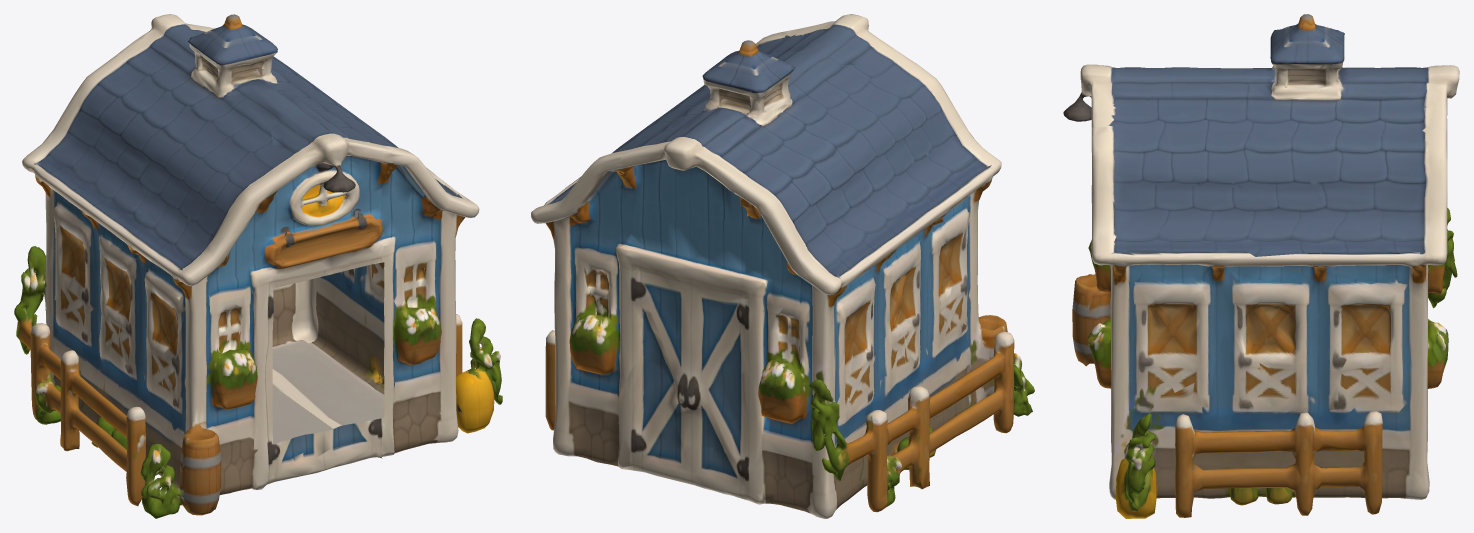
3 views of the same model, side by side, from view 1: azimuth 30°, elevation 25°; view 2: azimuth 150°, elevation 25°; view 3: azimuth 270°, elevation 25° (orthographic). The views are drawn at different scales.
Visible parts, largest first — view 1: tripo_node_3dd3f782-8a6c-4efa-84d8-e958c551ce31; view 2: tripo_node_3dd3f782-8a6c-4efa-84d8-e958c551ce31; view 3: tripo_node_3dd3f782-8a6c-4efa-84d8-e958c551ce31.
Part boxes in pixels (x1=…): tripo_node_3dd3f782-8a6c-4efa-84d8-e958c551ce31: x1=14, y1=14, x2=502, y2=518; tripo_node_3dd3f782-8a6c-4efa-84d8-e958c551ce31: x1=531, y1=14, x2=1034, y2=518; tripo_node_3dd3f782-8a6c-4efa-84d8-e958c551ce31: x1=1063, y1=14, x2=1459, y2=518.
Bounding box in the file's own units: 3.57 × 3.6 × 3.09.
1 material, 1 textured.
